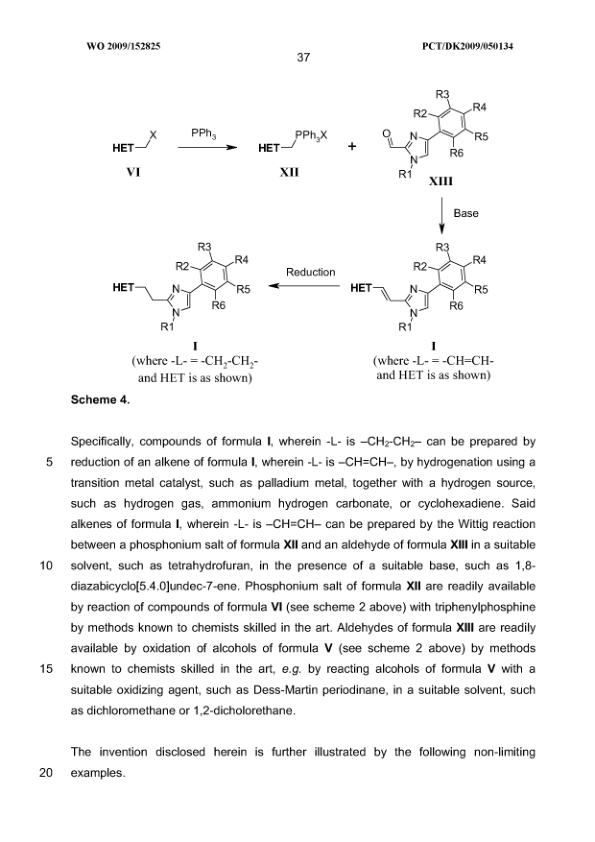compound-structure: (109, 234, 255, 340), (380, 87, 491, 185), (94, 112, 168, 181), (260, 121, 339, 160)
reaction: (47, 75, 557, 355), (349, 234, 503, 349)
reaction-arrow: (263, 261, 340, 299), (176, 123, 241, 163), (430, 195, 481, 231)
